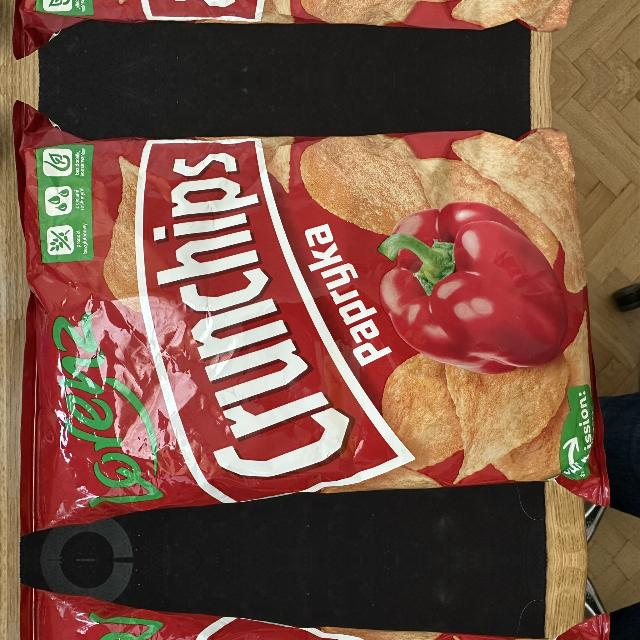crunchips: (136, 139, 417, 504)
